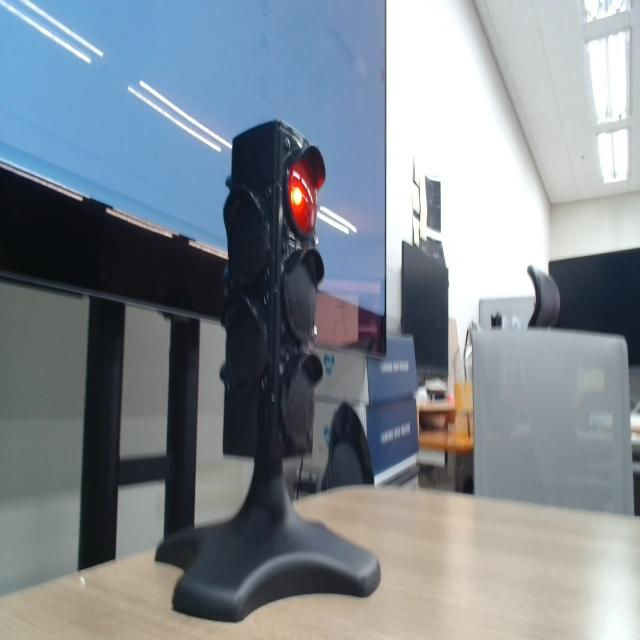red_light: (289, 159, 316, 235)
